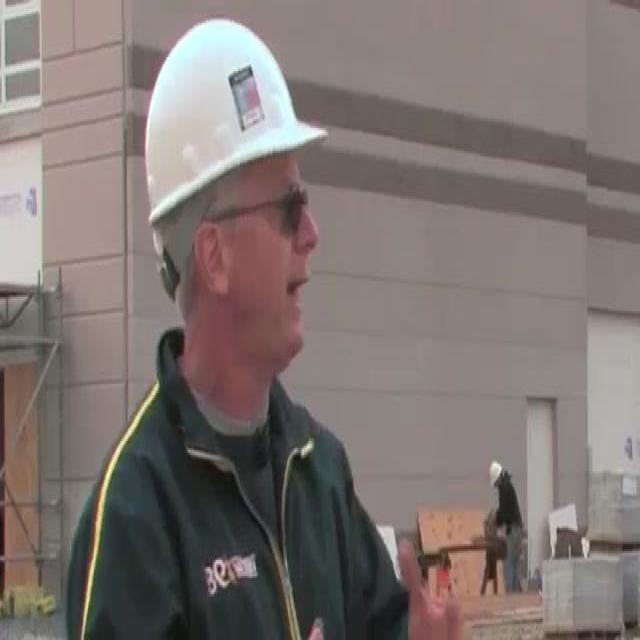Safety-Helmet: (134, 12, 326, 236)
